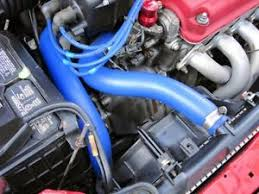radiator_hose: (79, 32, 227, 131)
